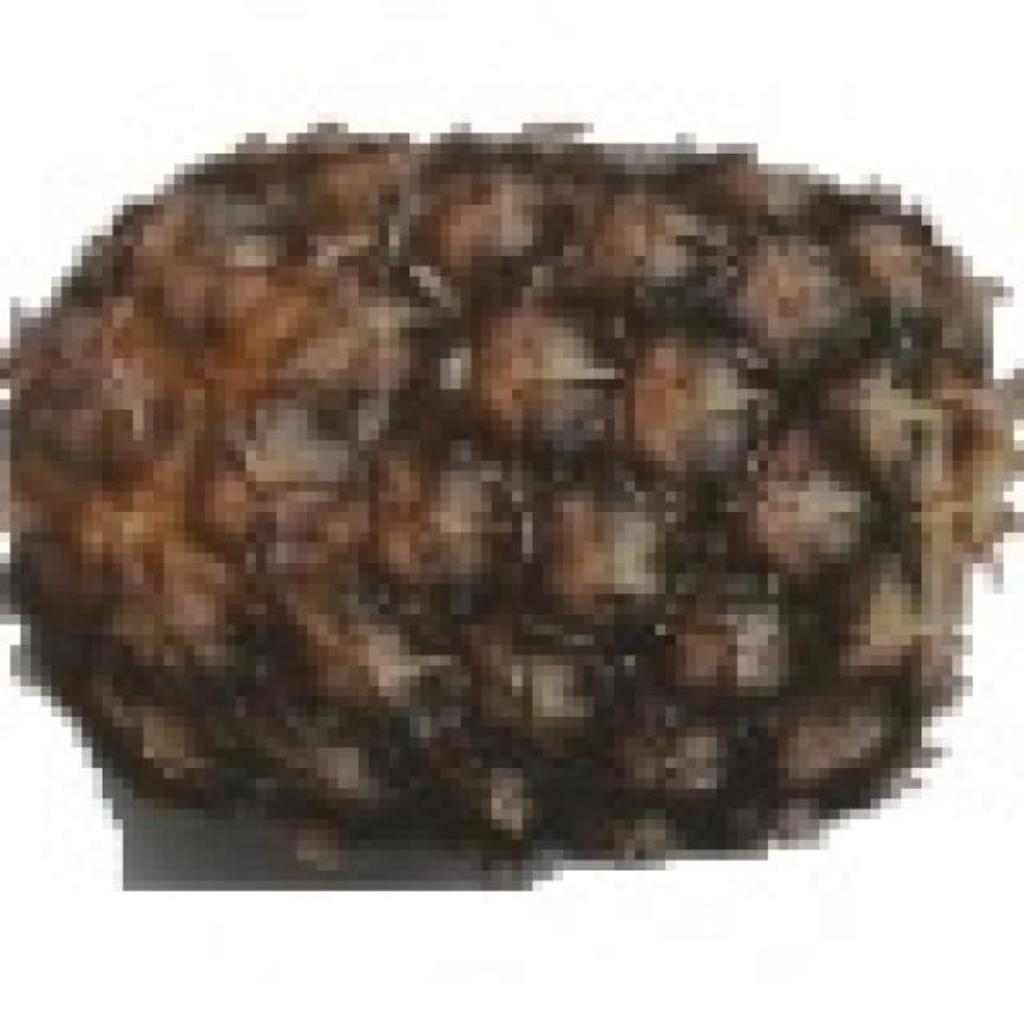pineapple: (41, 113, 1014, 829)
